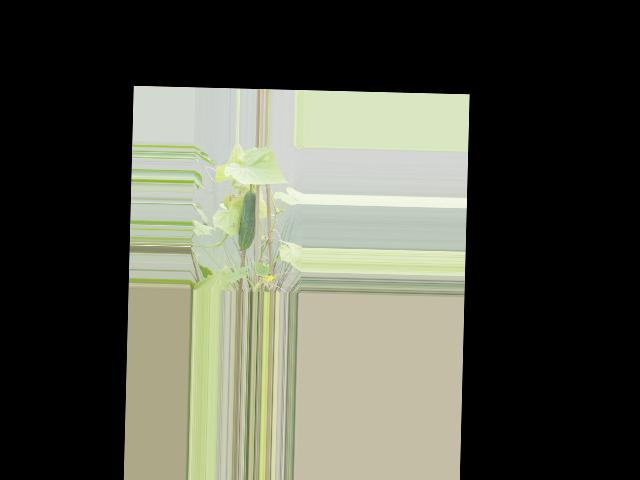cucumber: (237, 190, 256, 251)
